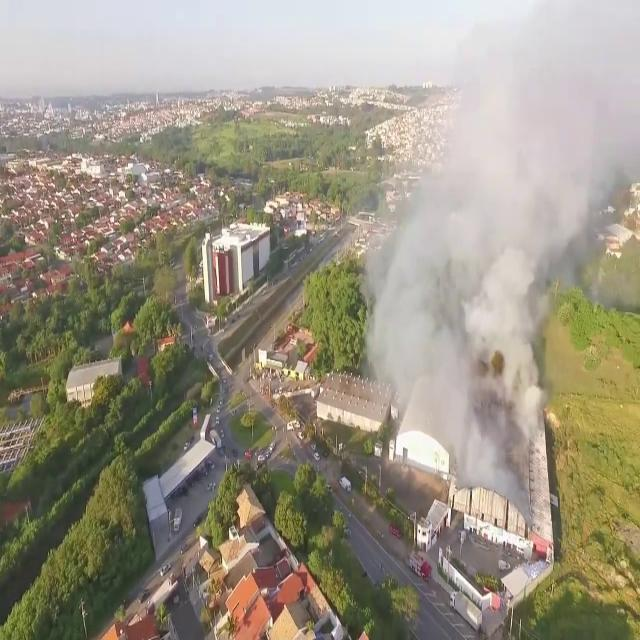Smoke: (360, 7, 601, 516)
